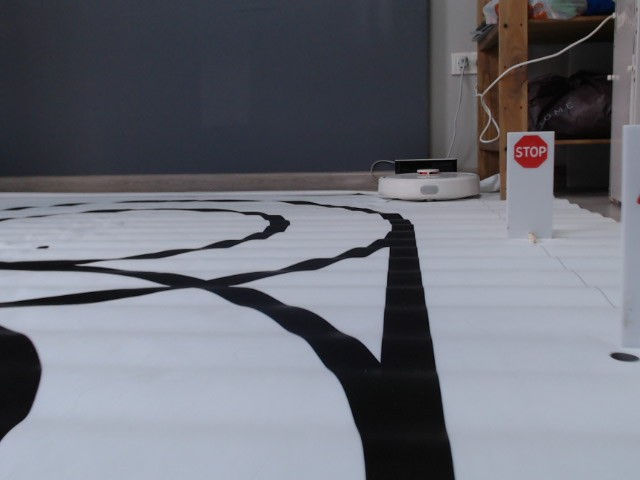Stop: (512, 134, 549, 170)
